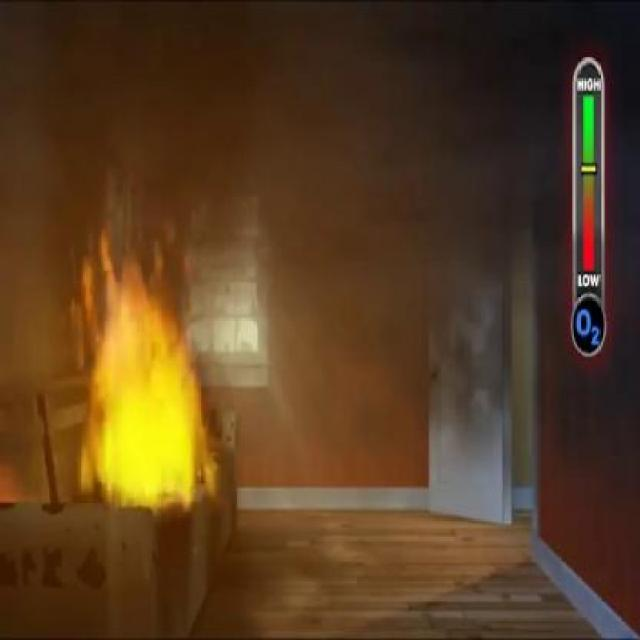fire: (82, 300, 202, 532)
smoke: (103, 61, 299, 290)
